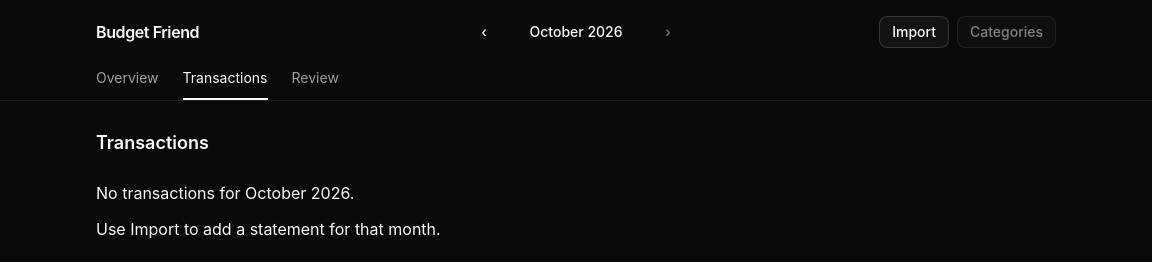
stepping back requests and renders the previous month
What coordinates should you click on to do the following:
click the button named "Previous month"
I would click on:
 (484, 32)
Its box is [468,16,500,48].
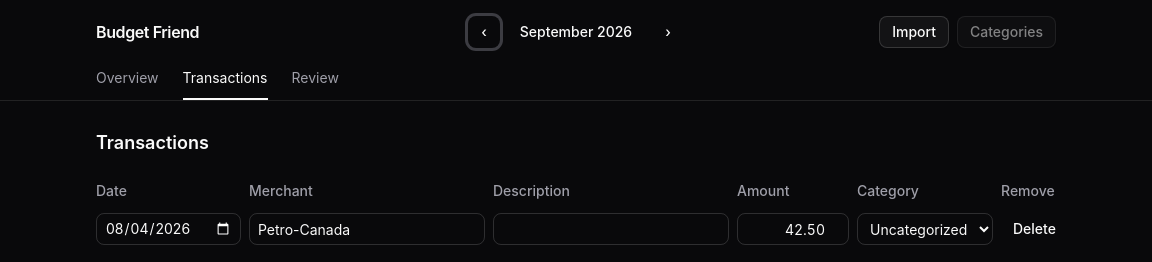
Expected: the field showing "Petro-Canada" is shown, [249,213,485,245]
